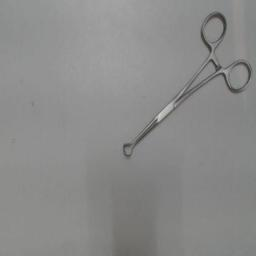Babcock Tissue Forceps: (121, 6, 253, 158)
